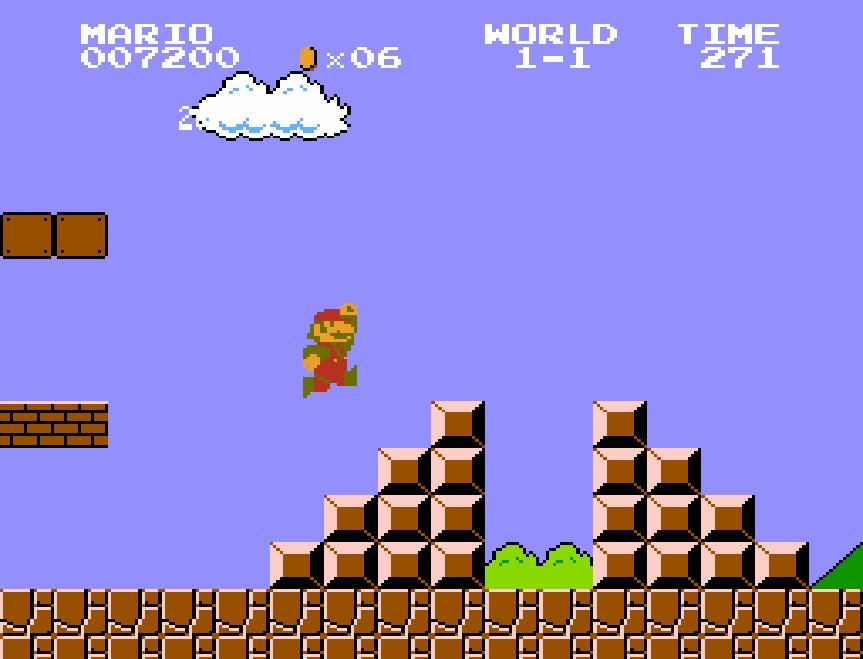big_mario: (301, 301, 359, 399)
